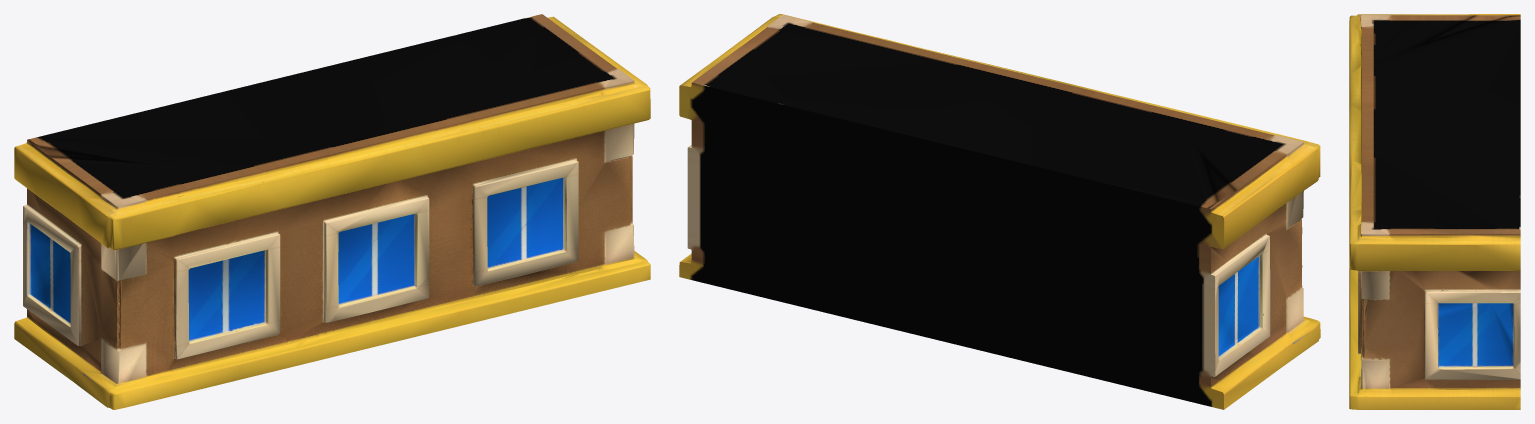
File: 5-upper-walls-front.fbx
3 views of the same model, side by side, from view 1: azimuth 30°, elevation 25°; view 2: azimuth 150°, elevation 25°; view 3: azimuth 270°, elevation 25° (orthographic). The views are drawn at different scales.
Visible parts, largest first — view 1: upper-walls-front; view 2: upper-walls-front; view 3: upper-walls-front.
Boxes of the visible parts, <box> form: upper-walls-front: <box>14,14,650,409</box>; upper-walls-front: <box>679,14,1320,409</box>; upper-walls-front: <box>1349,14,1520,409</box>.
Bounding box in the file's own units: 8912 × 3085 × 2803.
1 material, 1 textured.
